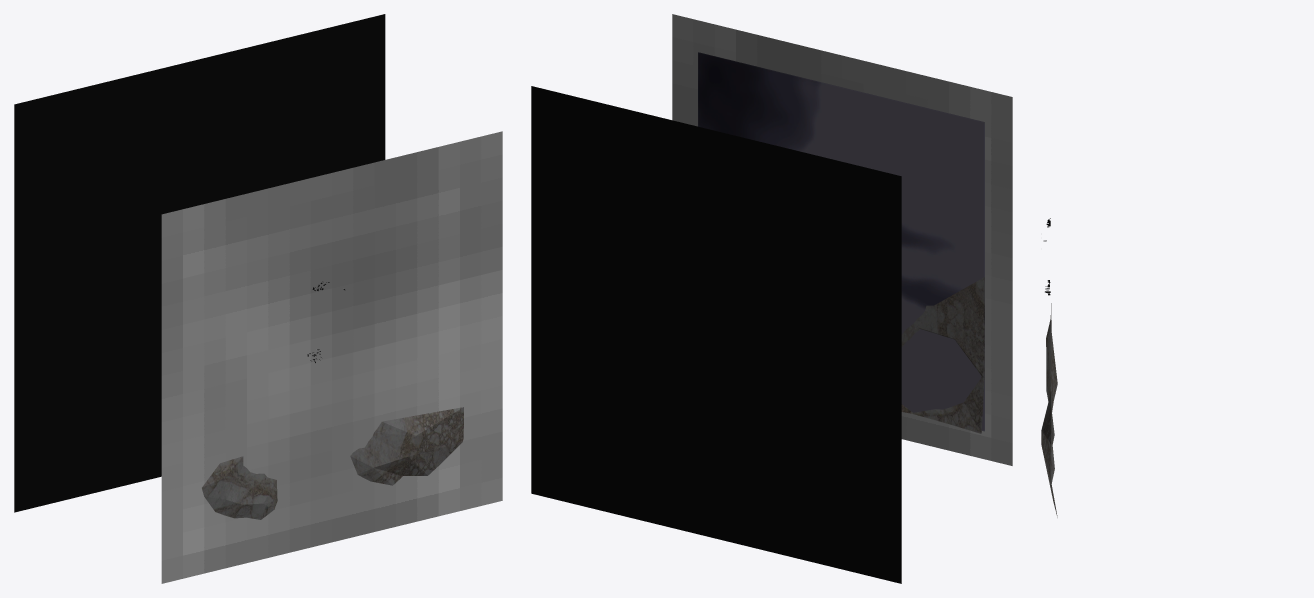
Rendered from mainmenu.glb.
The picture shows the model from 3 angles, left to right: view 1: azimuth 30°, elevation 25°; view 2: azimuth 150°, elevation 25°; view 3: azimuth 270°, elevation 25°; orthographic projection. The views are drawn at different scales.
Bounding box in the file's own units: 446 × 470 × 278.
27 materials, 27 textured.
